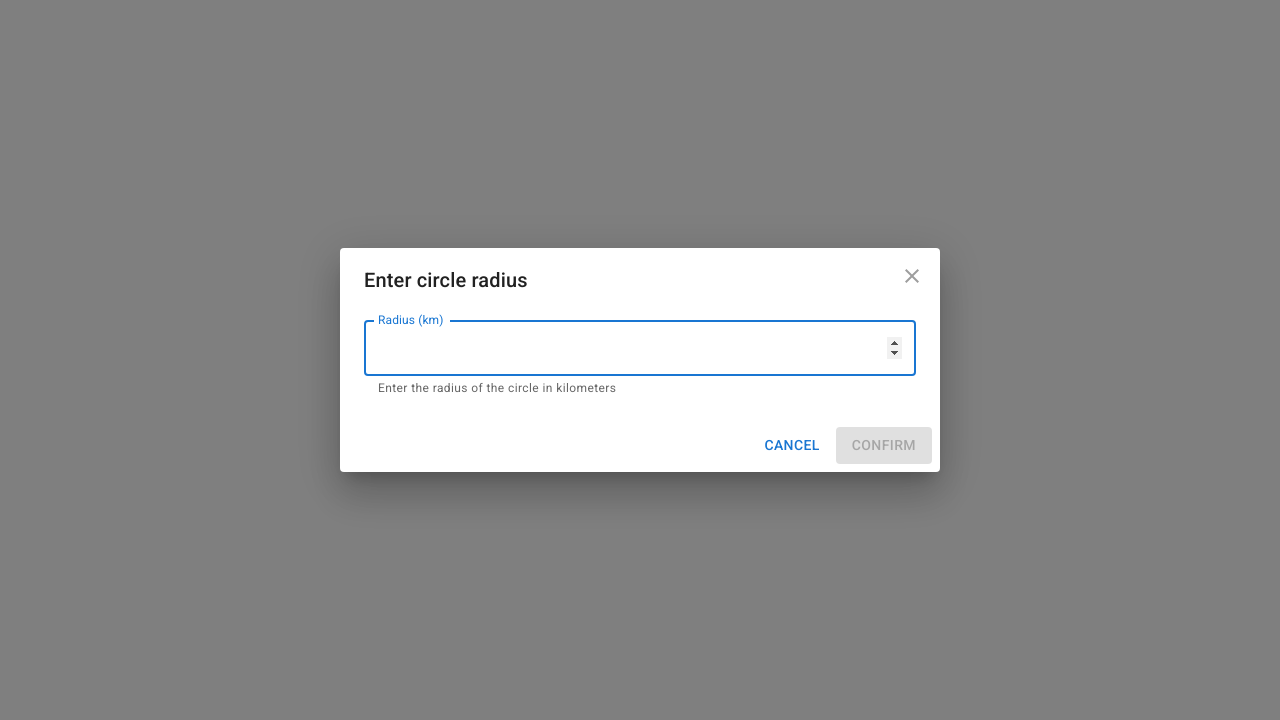
Test: RadiusDialog › input validation › shows error for negative numbers
In the number field labelled "Radius (km)": (640, 348) [364,320,916,376], type "-5"
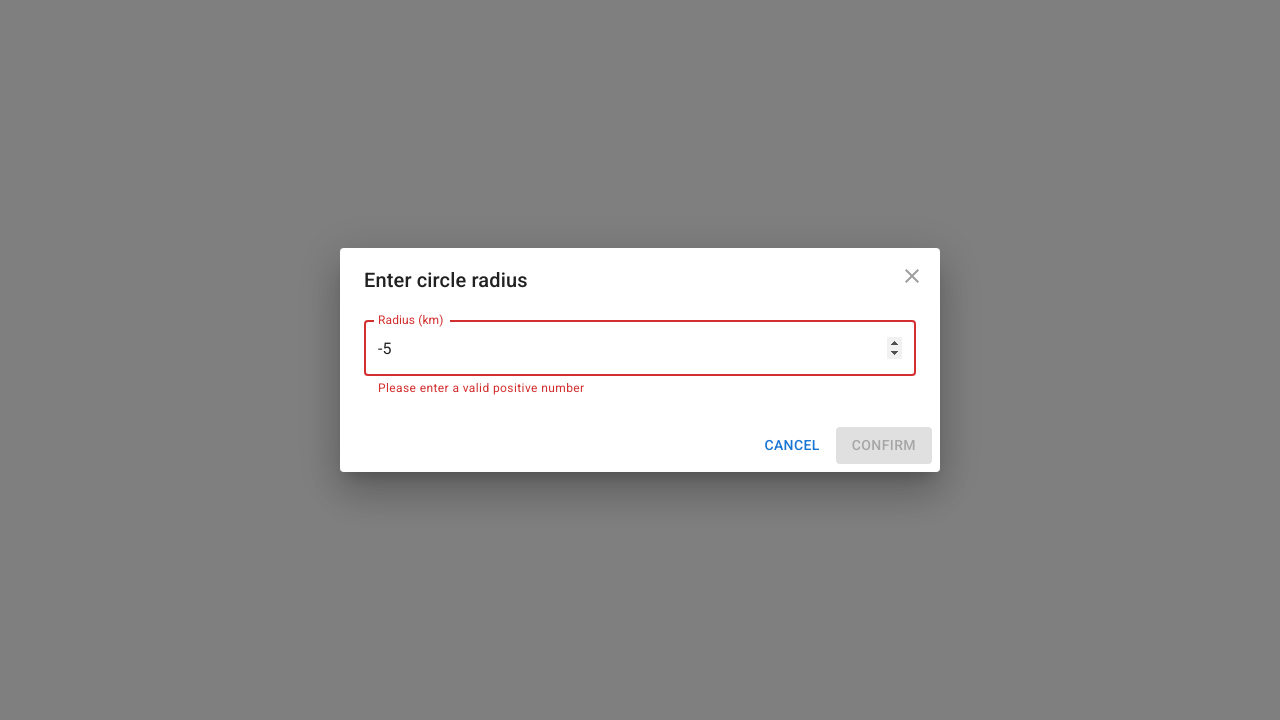
Expected: the button "Confirm" is disabled, [836,427,932,464]
Result: the text "Please enter a valid positive number" is shown at [378,381,584,395]
